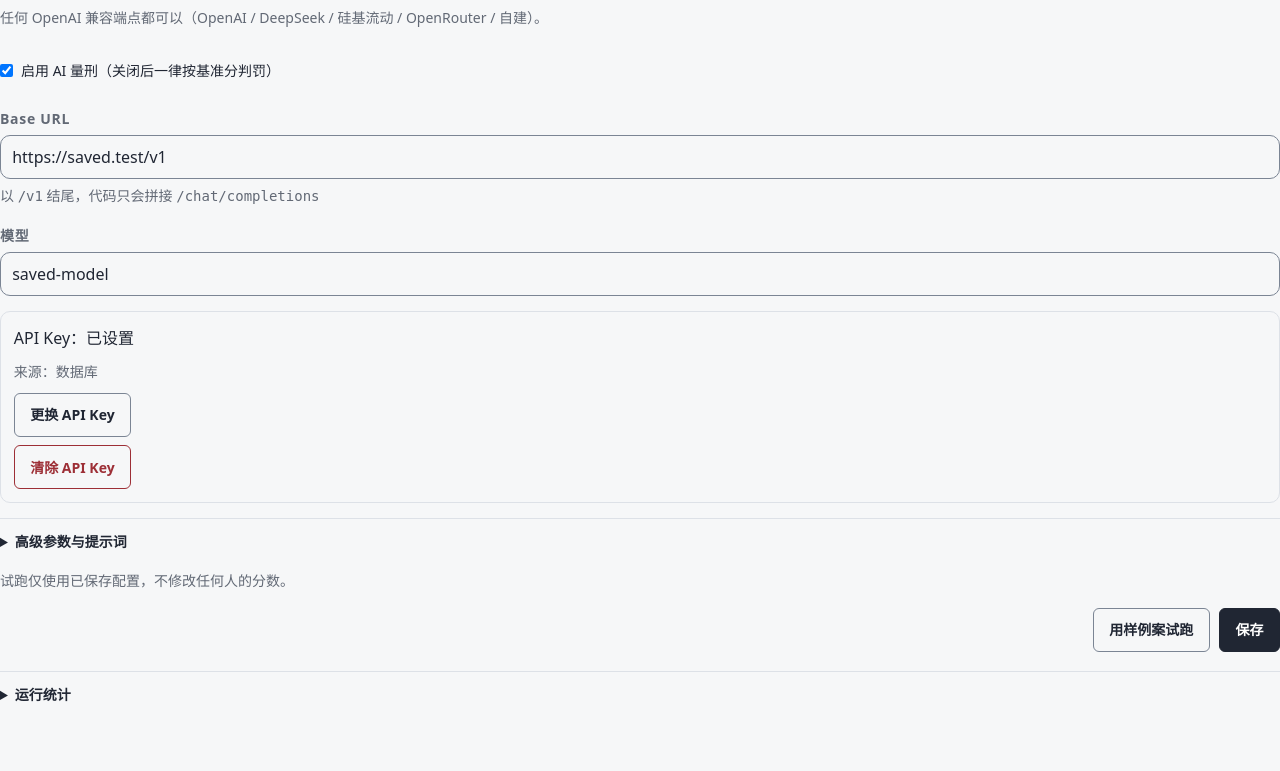
AI settings layout in the consolidated settings page › puts connection and credentials first, with advanced fields and the existing four statistics folded
expect the field labelled "Temperature" is not shown: met
expect the text "42" is not shown: met
Click the heading "高级参数与提示词": (71, 542) [15, 532, 127, 551]
(page scrolled)
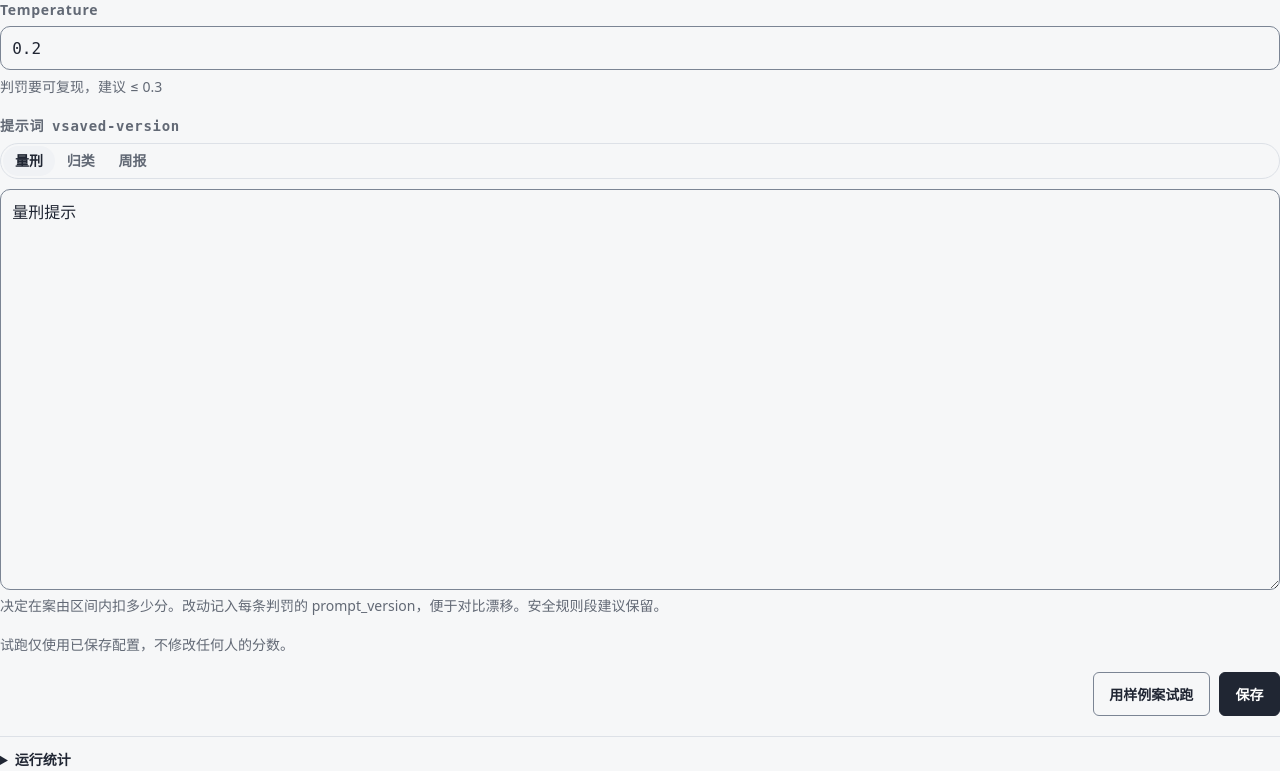
expect the number field labelled "Temperature 判罚要可复现，建议 ≤ 0.3" is shown: met, box [0, 26, 1279, 70]
expect the tab "量刑" is shown: met, box [3, 146, 55, 176]
expect the tab "归类" is shown: met, box [55, 146, 107, 176]
Click the heading "运行统计": (43, 759) [15, 750, 71, 769]
(page scrolled)
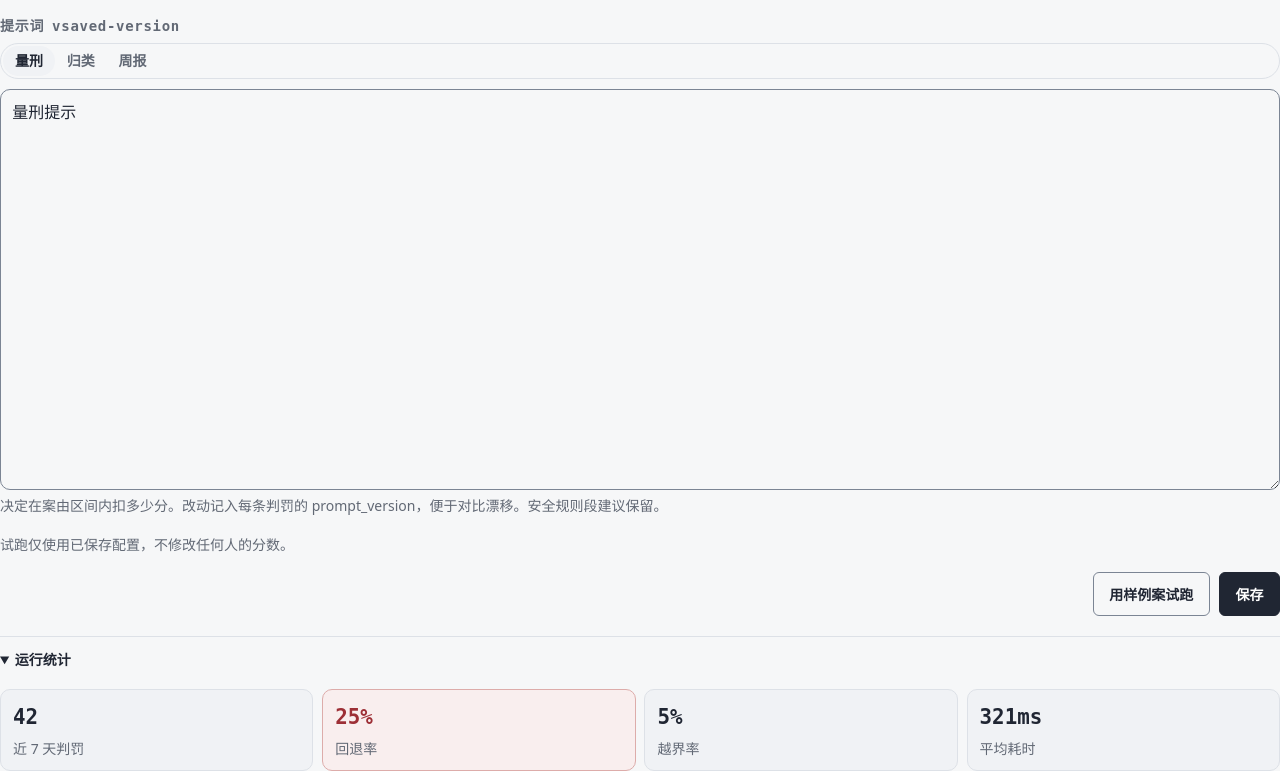
expect the text "42" is shown: met, box [13, 705, 38, 729]
expect the text "25%" is shown: met, box [335, 705, 373, 729]
expect the text "5%" is shown: met, box [657, 705, 682, 729]
